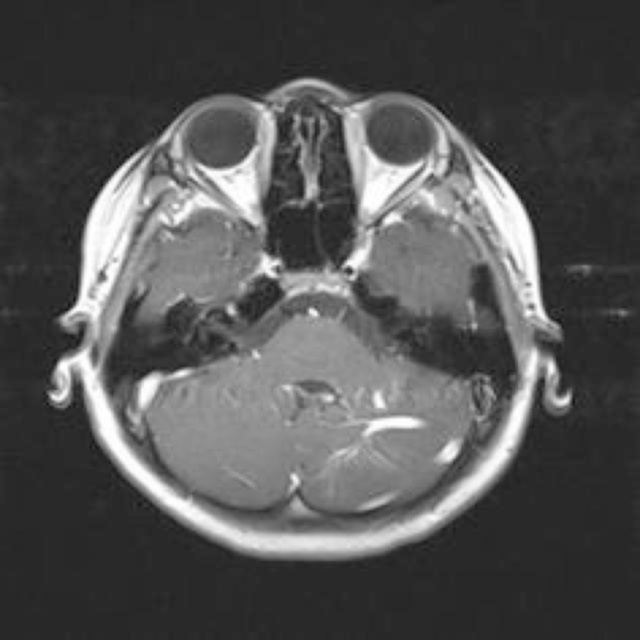glioma tumor: (152, 130, 474, 492)
